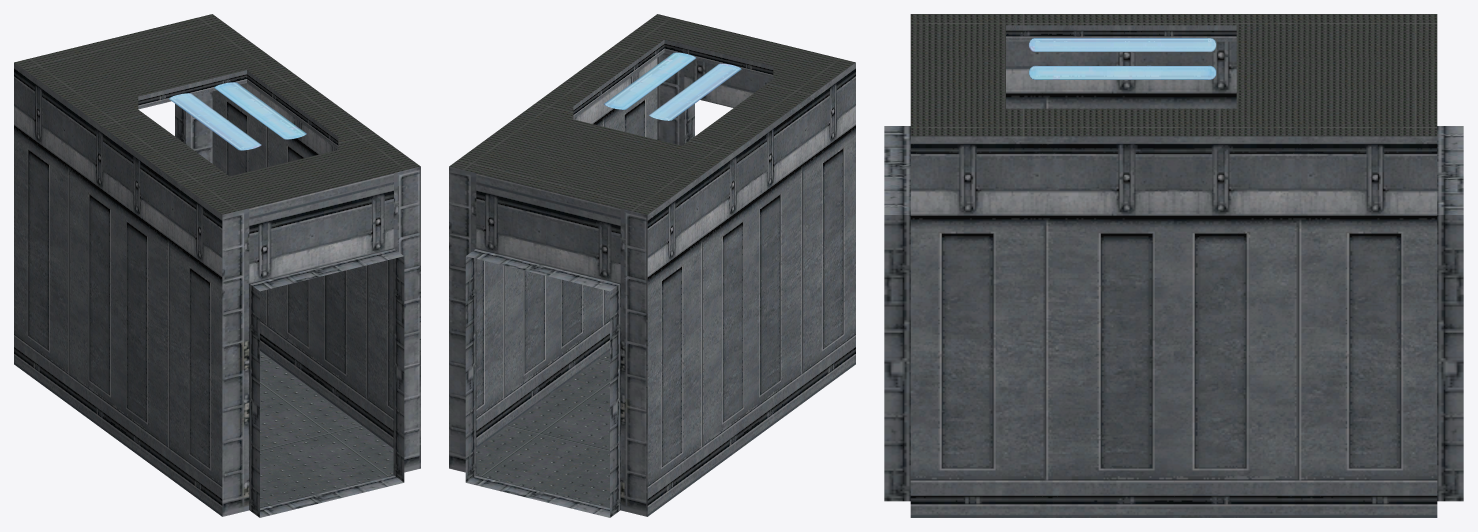
File: poi_all_impl_bunker_s02_r6_landing_mesh_r6.fbx
3 views of the same model, side by side, from view 1: azimuth 30°, elevation 25°; view 2: azimuth 150°, elevation 25°; view 3: azimuth 270°, elevation 25° (orthographic). The views are drawn at different scales.
Parts seen in each view (by area): view 1: mesh_node; view 2: mesh_node; view 3: mesh_node.
Part boxes in pixels (left/top/right/bottom): mesh_node: left=14, top=14, right=420, bottom=517; mesh_node: left=449, top=14, right=855, bottom=517; mesh_node: left=884, top=14, right=1463, bottom=517.
Bounding box in the file's own units: 2.75 × 4.17 × 5.5.
